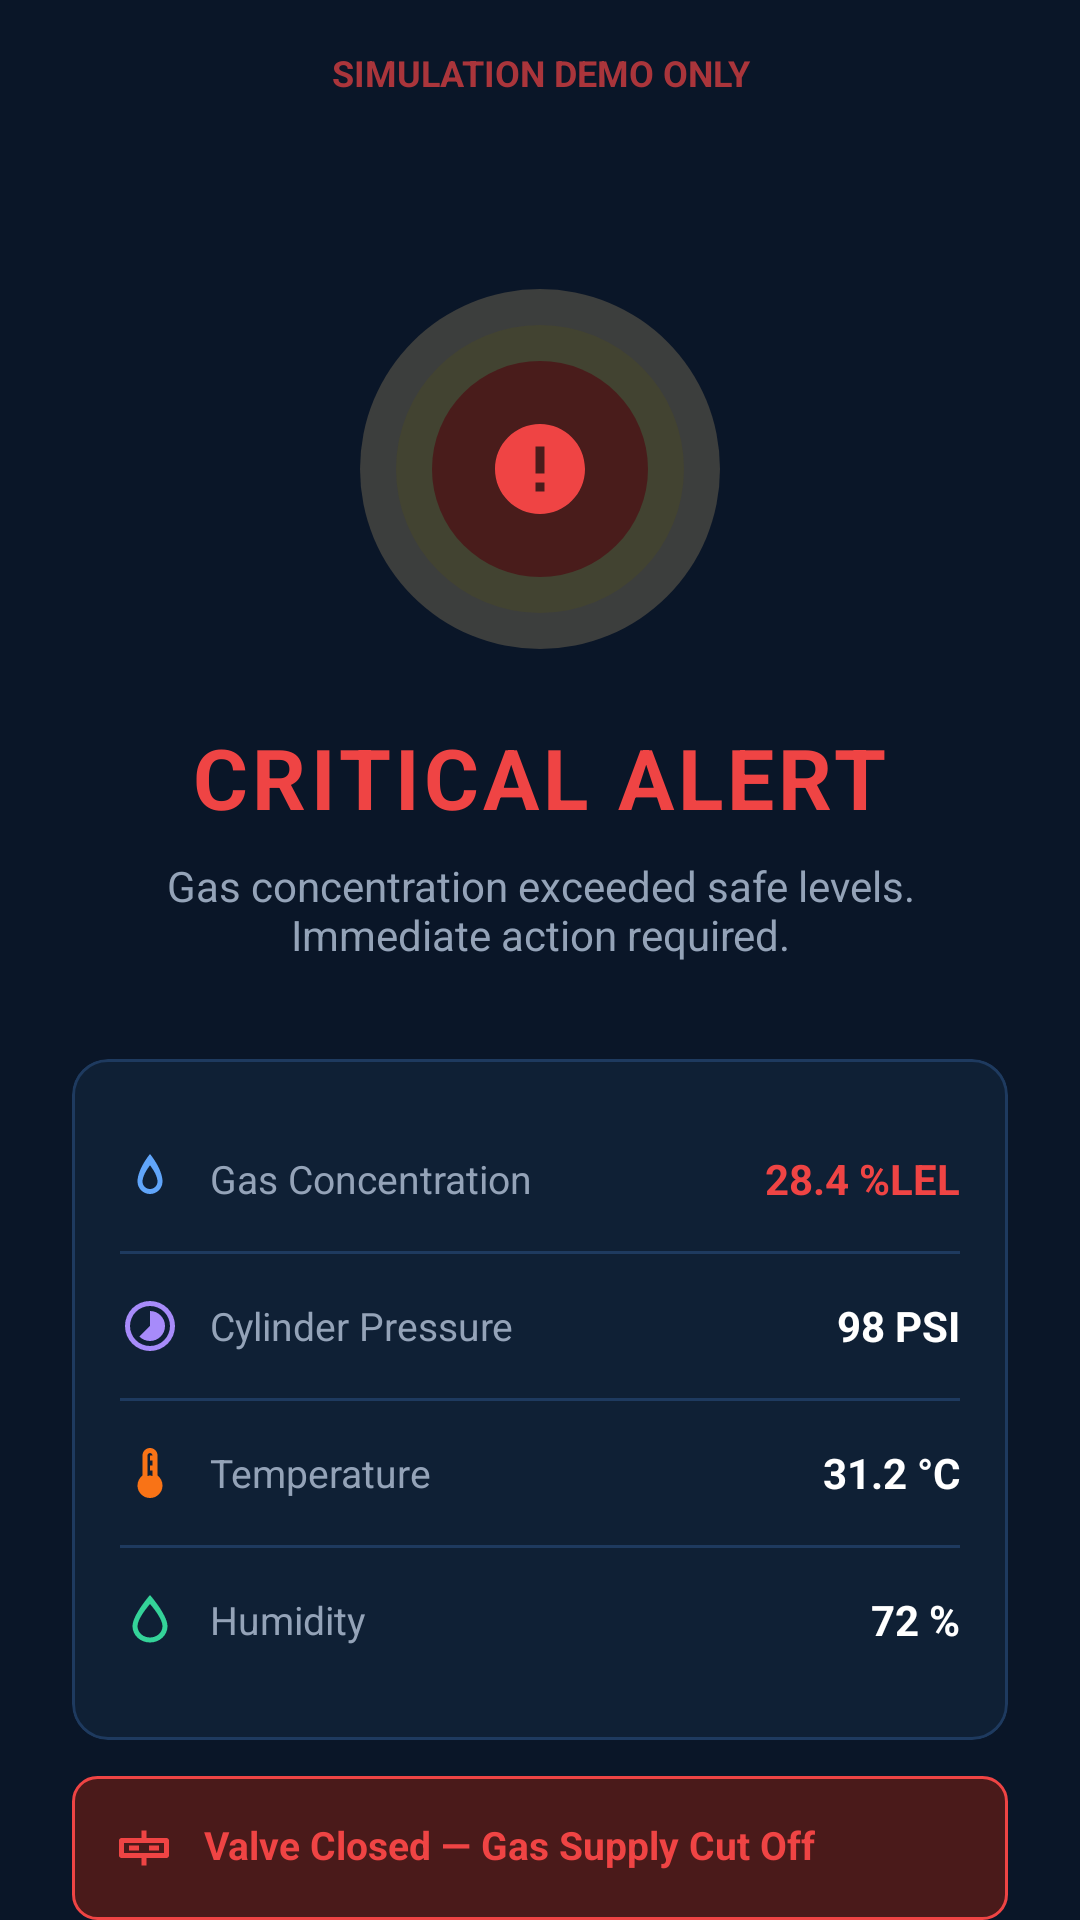

Named icons in this screenshot (1080px×1920px) and their centers, (x=x, y=y):
thermometer: (x=150, y=1473)
warning circle: (x=540, y=469)
